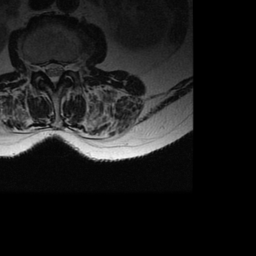CCS_normal: (50, 56, 57, 93)
LFS_stenosis: (66, 57, 73, 75)
LLS_normal: (57, 57, 65, 79)
RFS_stenosis: (34, 57, 42, 75)
RLS_normal: (42, 57, 50, 80)
